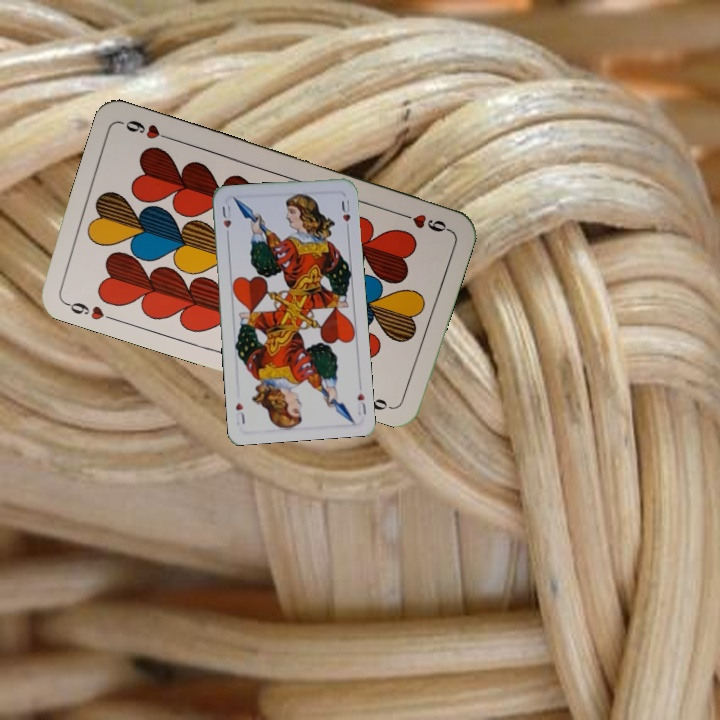H9: (394, 208, 452, 235), (61, 298, 118, 324)
HU: (218, 201, 234, 241), (353, 388, 369, 418)
